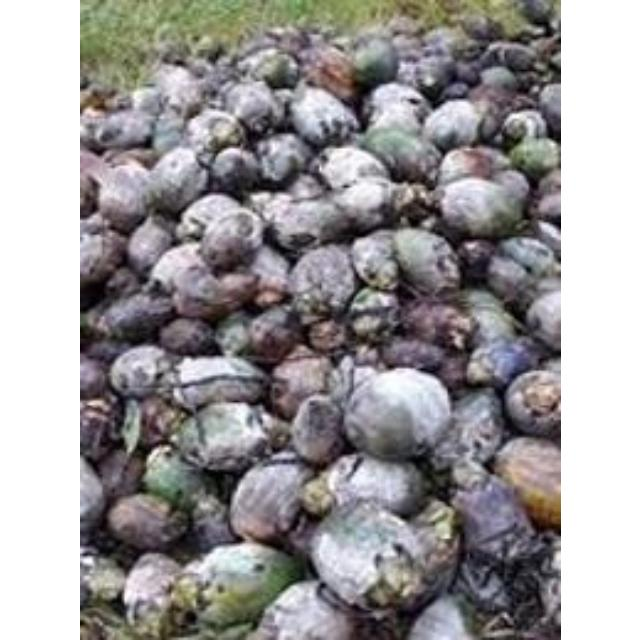damaged: (308, 494, 439, 610), (182, 540, 302, 628), (341, 366, 449, 460), (447, 474, 539, 568), (227, 452, 313, 544), (172, 401, 272, 472), (251, 582, 369, 640), (492, 436, 558, 532), (326, 452, 424, 516), (432, 176, 526, 240), (167, 354, 265, 410), (436, 390, 504, 470), (104, 491, 188, 551), (261, 192, 345, 252), (388, 225, 459, 295), (288, 244, 357, 316), (120, 552, 184, 628), (357, 126, 439, 184), (266, 353, 332, 422), (453, 552, 522, 618), (287, 85, 359, 147), (94, 290, 174, 344), (143, 446, 210, 510), (196, 207, 262, 271), (142, 148, 206, 214), (502, 368, 560, 439), (93, 164, 153, 232), (287, 396, 345, 464), (107, 344, 175, 401), (400, 298, 472, 350), (330, 178, 396, 232), (467, 340, 537, 390), (456, 288, 516, 346), (295, 43, 357, 99), (362, 82, 430, 132), (314, 146, 388, 190), (244, 304, 300, 362), (220, 80, 282, 132), (421, 99, 483, 151), (348, 229, 400, 289), (124, 214, 174, 276), (462, 82, 520, 134), (88, 108, 156, 152), (494, 236, 556, 284), (346, 286, 400, 340), (148, 243, 202, 297), (255, 132, 309, 186), (150, 61, 206, 113), (436, 146, 506, 187), (184, 107, 246, 153), (132, 392, 184, 446), (188, 493, 236, 551), (378, 336, 448, 374), (95, 447, 142, 503), (348, 34, 398, 86), (203, 271, 260, 315), (482, 252, 532, 302), (80, 551, 126, 605), (522, 288, 560, 352), (208, 146, 258, 194), (79, 398, 117, 460), (412, 498, 458, 548), (390, 182, 440, 228), (157, 316, 213, 356), (478, 40, 540, 76), (240, 49, 294, 90), (508, 135, 560, 177), (80, 456, 106, 536), (534, 553, 560, 631), (215, 311, 255, 355), (456, 238, 496, 280), (499, 109, 546, 143), (305, 316, 347, 354), (200, 56, 242, 94), (151, 110, 187, 154), (432, 351, 470, 392), (504, 612, 558, 640), (342, 362, 380, 400), (264, 27, 310, 58), (102, 264, 142, 298), (102, 148, 158, 172), (80, 356, 110, 400), (79, 84, 119, 116), (458, 13, 502, 42), (83, 337, 127, 365), (79, 110, 113, 146), (493, 168, 529, 202), (174, 557, 210, 591), (419, 26, 459, 54), (516, 0, 554, 28), (130, 86, 164, 116), (478, 65, 516, 91), (156, 40, 194, 66), (82, 304, 110, 338), (80, 170, 100, 217), (252, 285, 288, 311), (394, 59, 424, 90), (382, 15, 420, 39), (388, 30, 422, 56), (350, 344, 382, 368), (80, 210, 106, 238), (450, 62, 480, 86), (536, 168, 560, 196), (439, 81, 469, 102), (190, 36, 218, 58)
